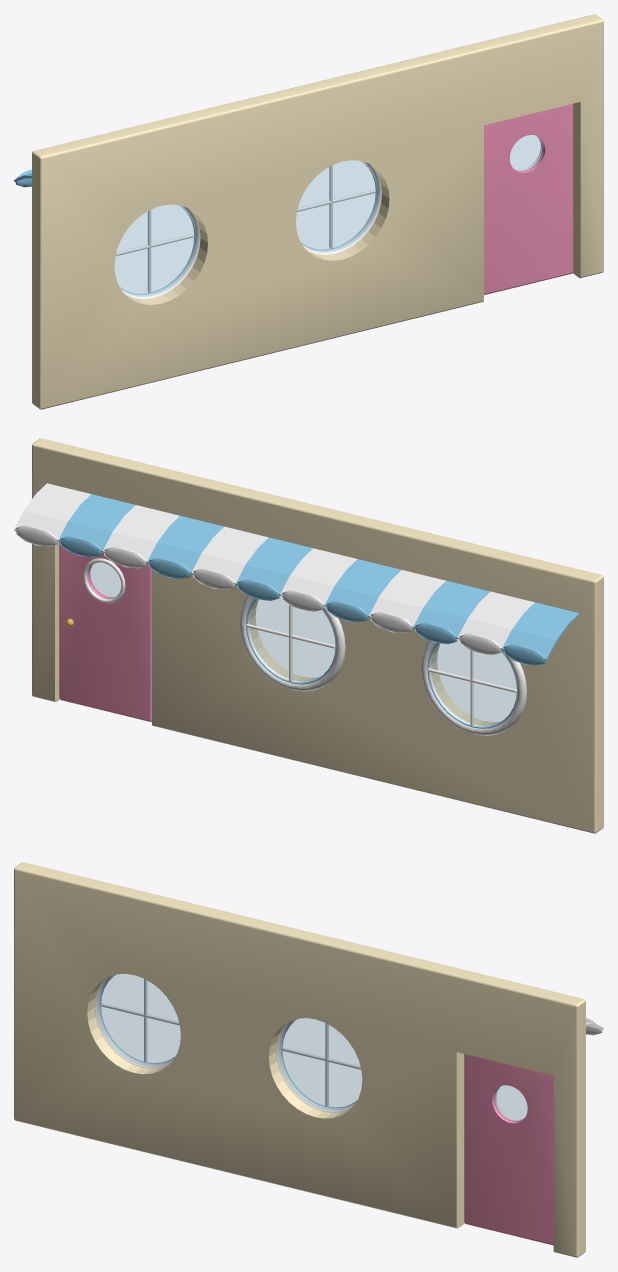
The model's file is shop_front.glb.
3 views of the same model, one above another, from view 1: azimuth 30°, elevation 25°; view 2: azimuth 150°, elevation 25°; view 3: azimuth 330°, elevation 25° (orthographic).
Visible parts, largest first — view 1: Body, Door; view 2: Body, Door; view 3: Body, Door.
Boxes of the visible parts, <box> form: Body: <box>14,14,603,409</box>; Door: <box>484,103,573,294</box>; Body: <box>14,438,603,833</box>; Door: <box>59,542,151,721</box>; Body: <box>14,862,603,1257</box>; Door: <box>464,1054,553,1245</box>.
Size of the model in its own units: 7 by 3 by 0.9238.
6 materials, 6 textured.
